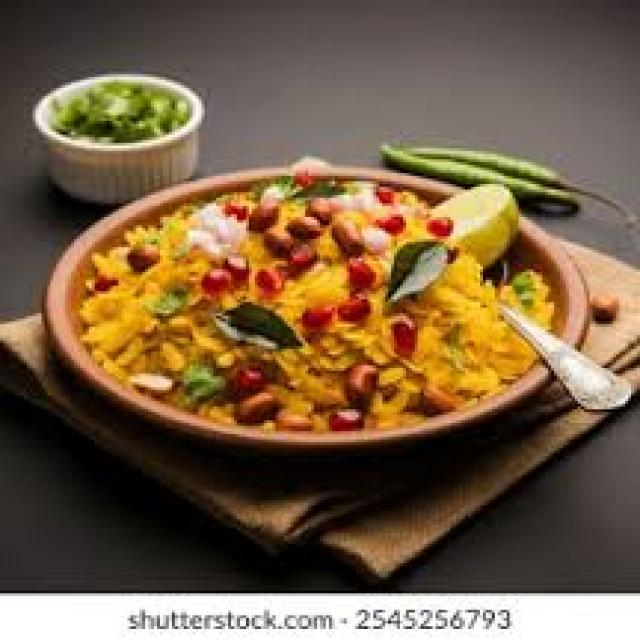POHA: (79, 179, 541, 427)
